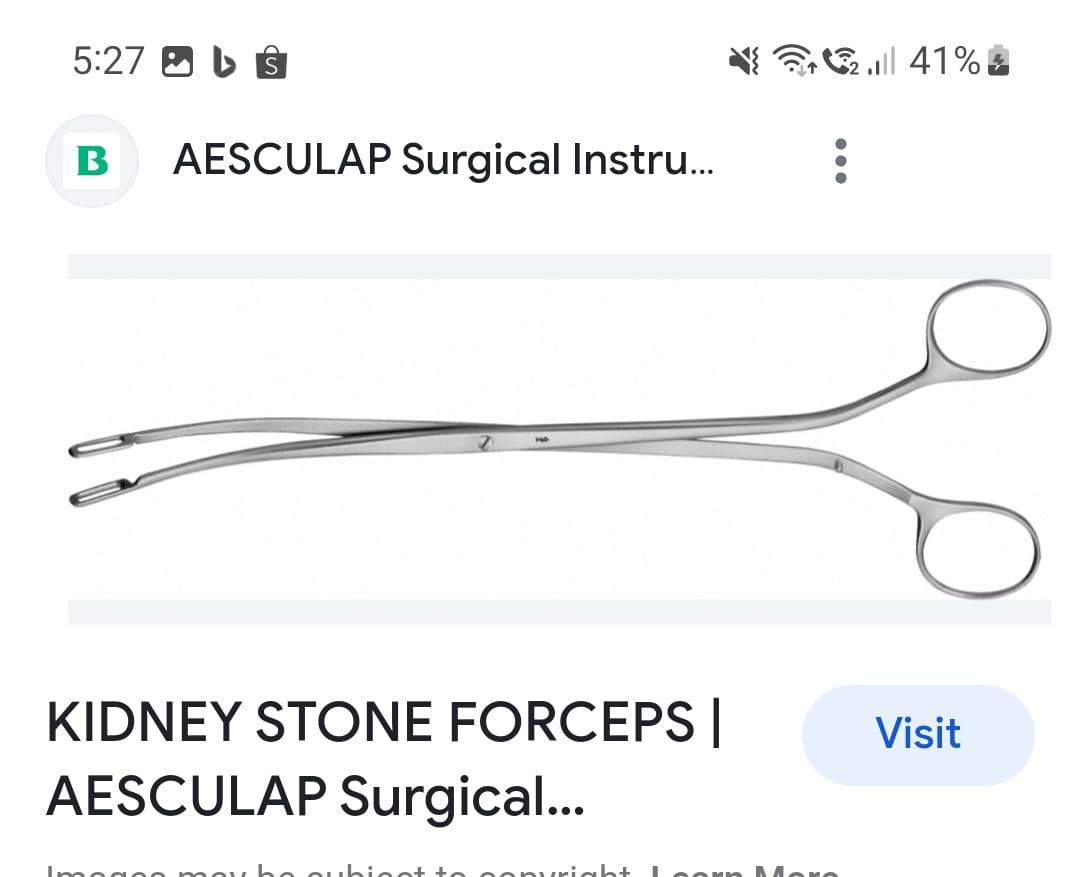Desjardin Forceps: (64, 271, 1053, 605)
